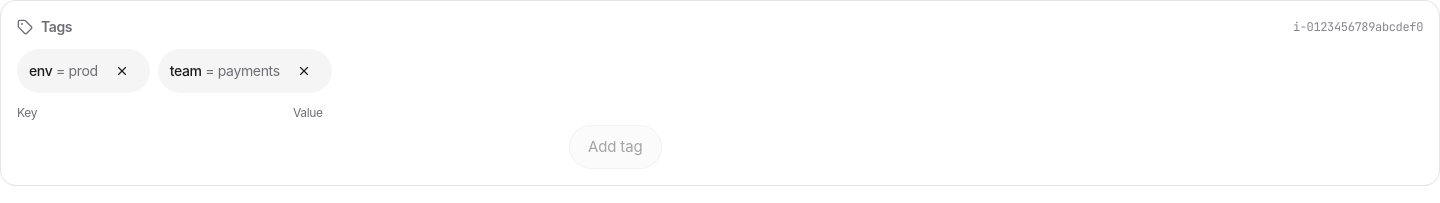
Test case: lists tags with the EC2-style id and removes one
Expected: the text "i-0123456789abcdef0" is shown, [1293,19,1423,35]
Expected: the text "env" is shown, [29,62,52,79]
Click the button named "Remove tag env": (122, 71) [106,55,138,87]
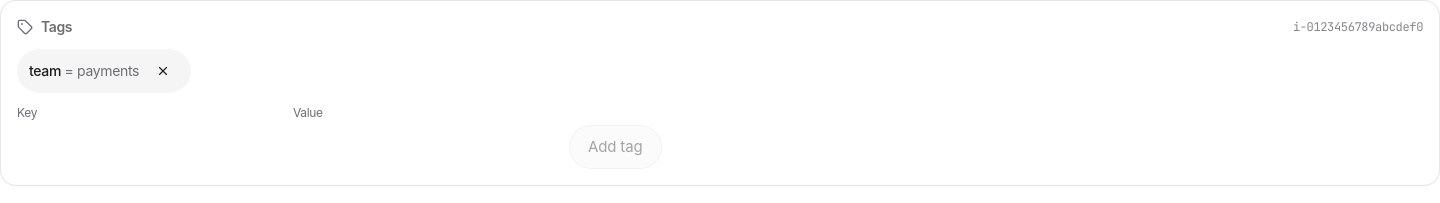
Now the text "env" is gone
